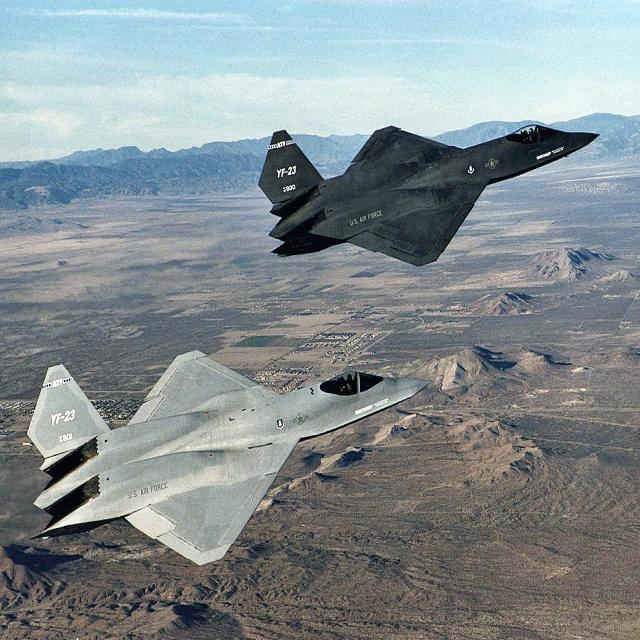MIL_Plane: (256, 125, 601, 267), (26, 415, 434, 503)
